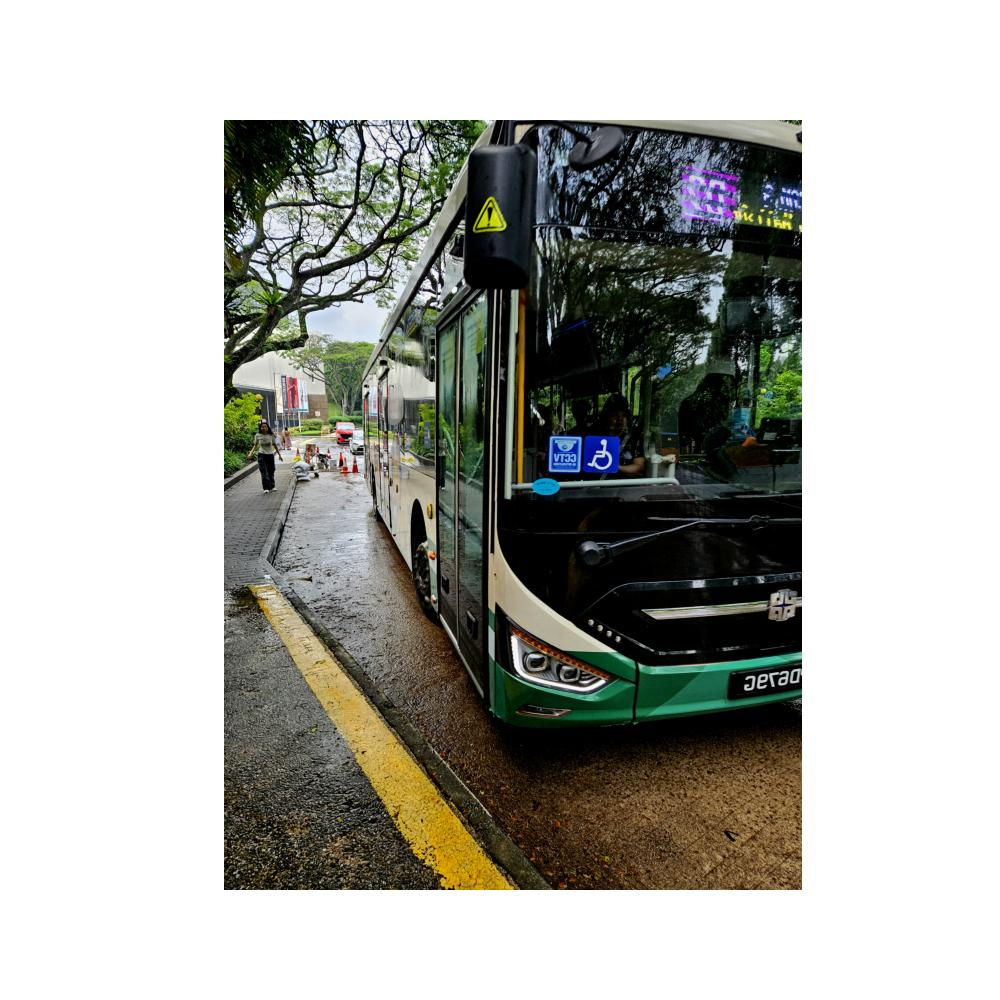bus: (358, 121, 801, 732)
